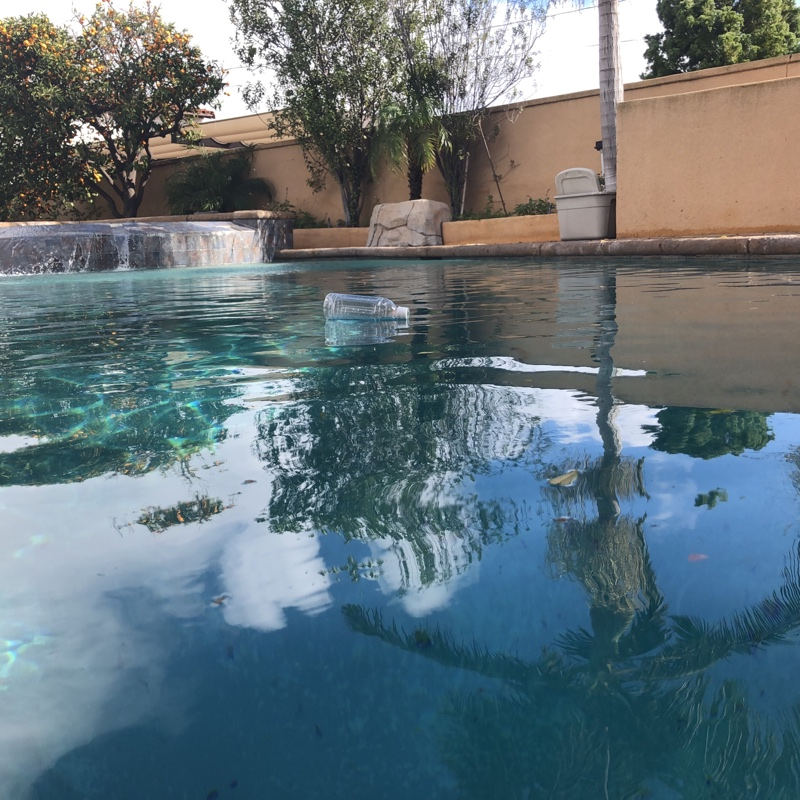Plastic Bottle: (321, 293, 412, 323)
